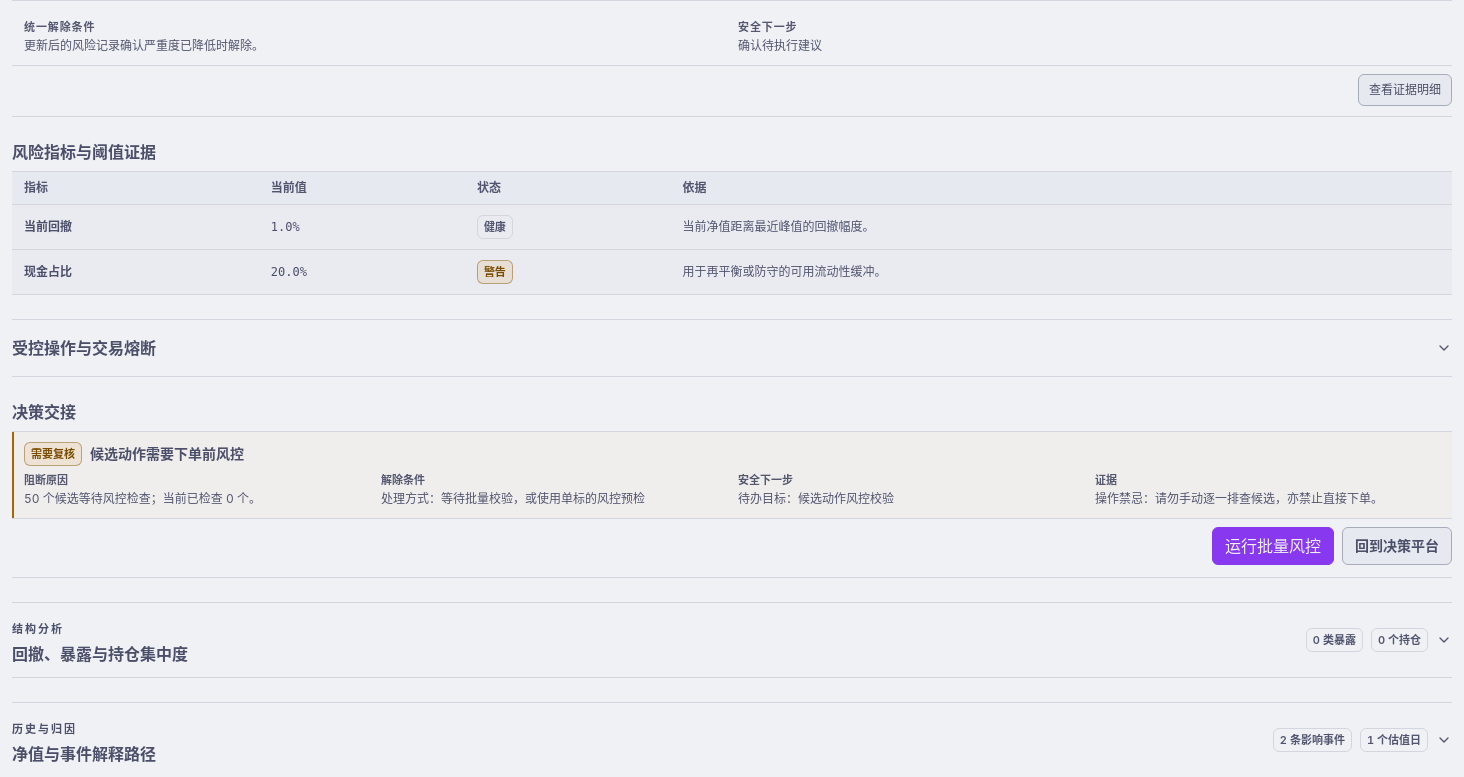
Test: explains data-quality blocking without claiming that risk ran
(page scrolled)
Click the button "运行批量风控".
click(1273, 546)  # box left=1212, top=527, right=1334, bottom=565
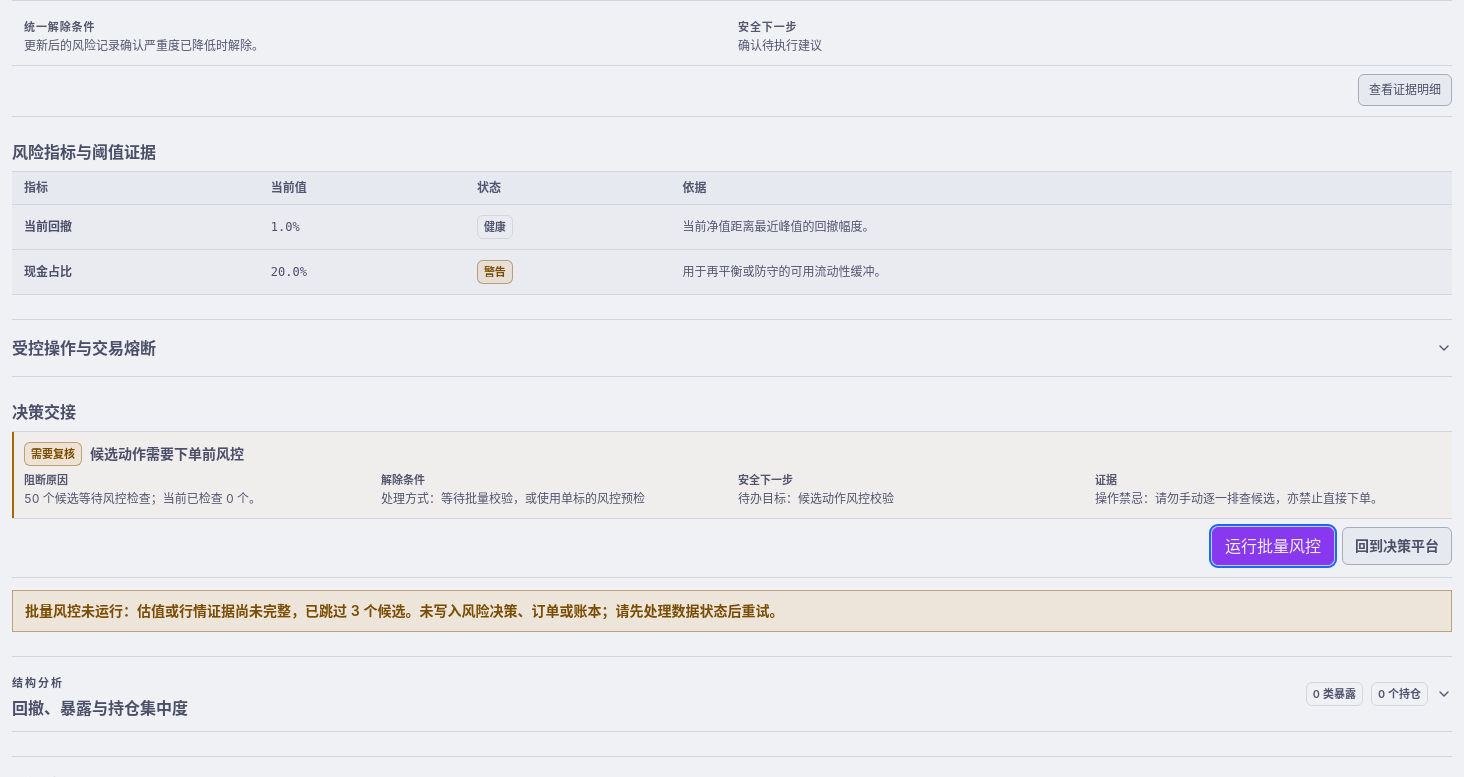
Result: the text "批量风控未运行：估值或行情证据尚未完整，已跳过 3 个候选。未写入风险决策、订单或账本；请先处理数据状态后重试。" is shown at left=12, top=590, right=1452, bottom=632
